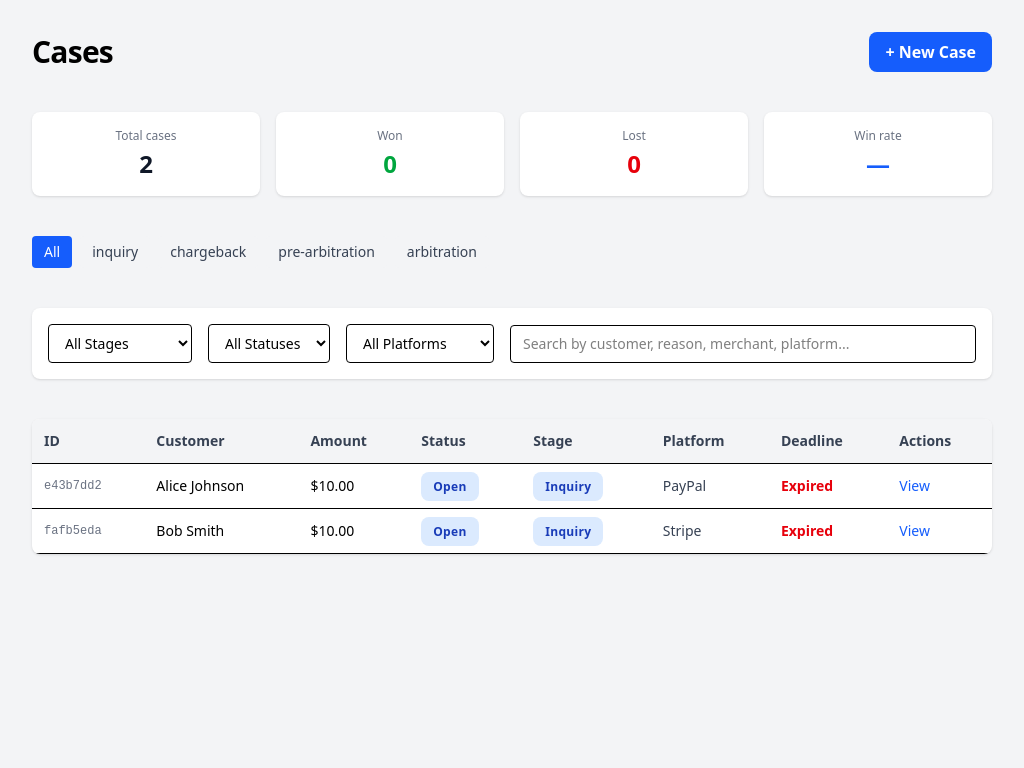
Scenario: Dashboard › matches platform in the free-text search
Type "stripe" into the field with placeholder "Search by customer, reason, merchant, platform..." at (743, 344), box [510, 324, 976, 362]
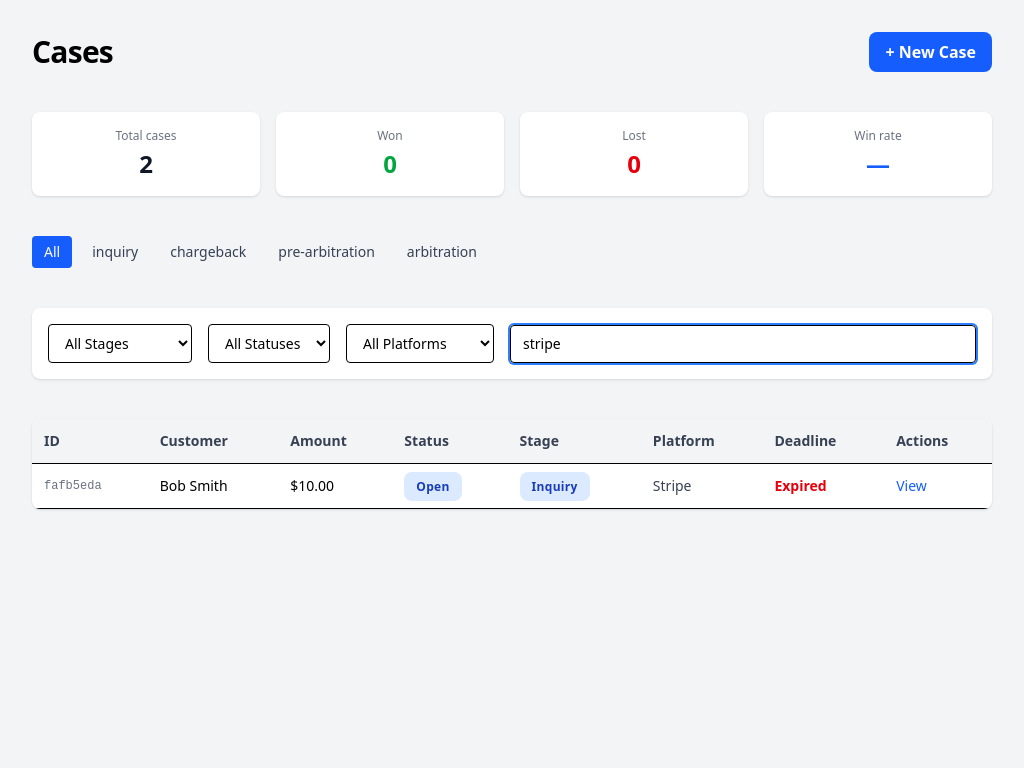
Check: the text "Bob Smith" is shown, box [148, 464, 278, 508]
Check: the text "Alice Johnson" is gone
